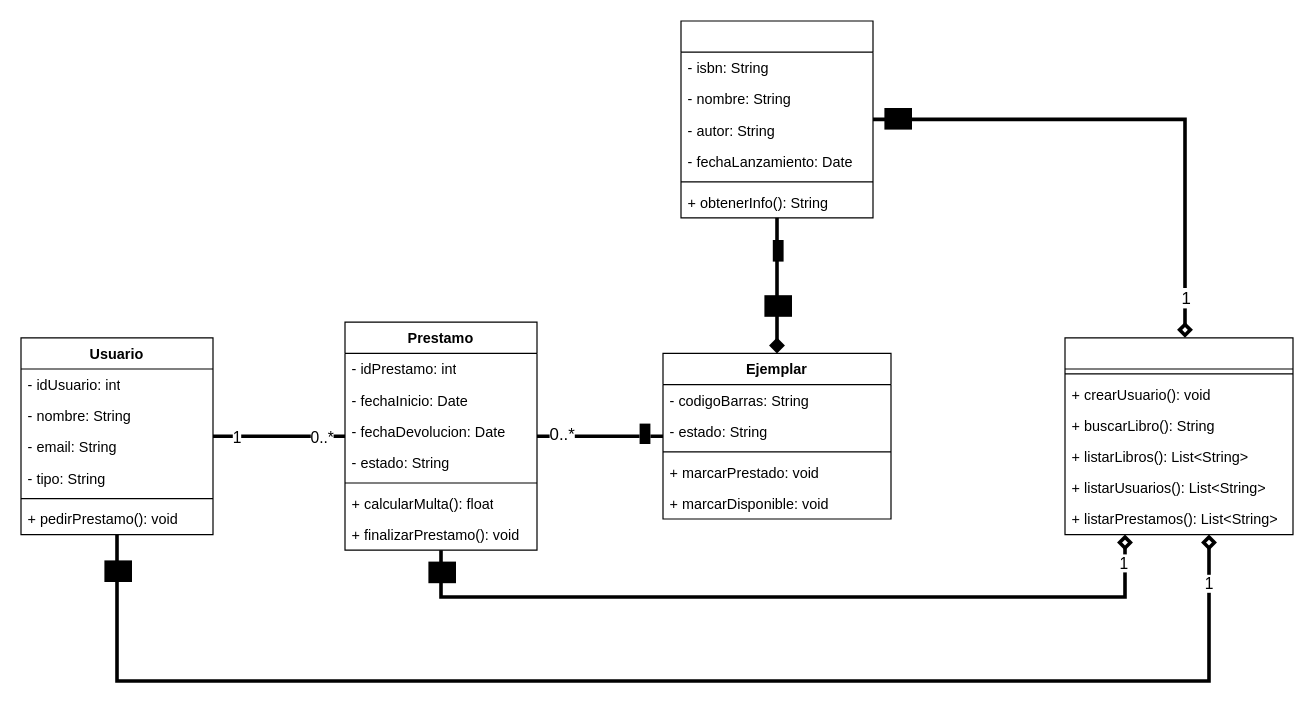
The diagram is 1314 pixels wide and 713 high, and some of its shapes have lost their labels. Here are the shapes that lost their labels. From the top down, the box of each, then its label:
(680, 20, 873, 218): Libro
(1064, 337, 1293, 535): Biblioteca
